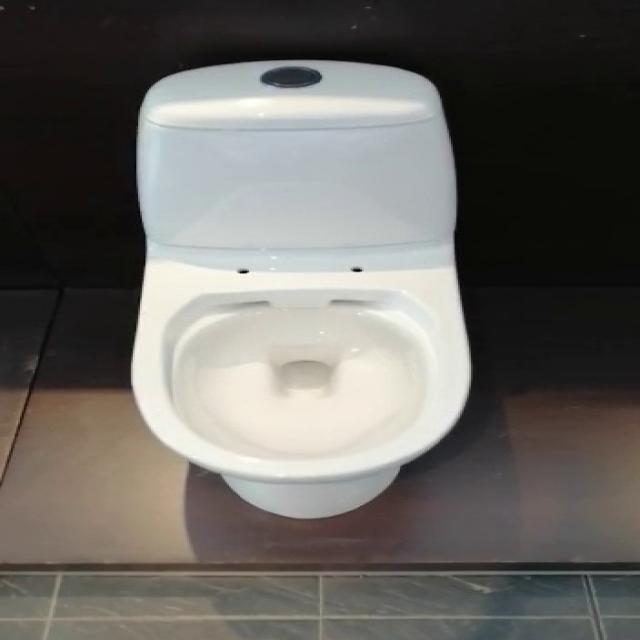toilet: (129, 58, 473, 520)
